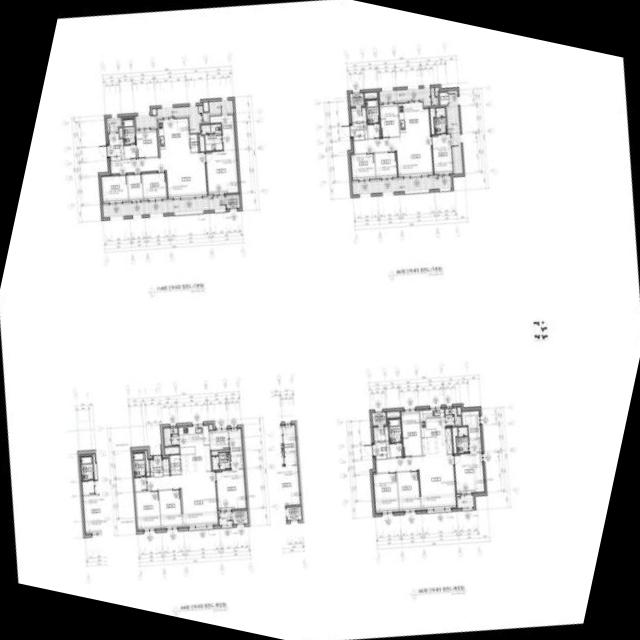background: (0, 0, 640, 640)
space_balconi: (102, 195, 225, 217), (134, 105, 208, 133), (352, 175, 451, 194), (446, 89, 462, 173), (379, 87, 438, 105), (208, 99, 233, 113), (444, 407, 461, 425), (163, 427, 178, 445), (106, 116, 121, 131), (456, 494, 473, 507), (218, 511, 232, 524)
space_bedroom: (215, 454, 245, 509), (453, 438, 483, 492), (205, 150, 238, 193), (373, 472, 398, 512), (135, 490, 160, 529), (396, 470, 420, 510), (158, 489, 182, 527), (431, 133, 452, 173), (100, 174, 127, 202), (141, 172, 166, 199), (350, 153, 375, 179), (135, 129, 157, 157), (374, 151, 396, 177)
space_dressroom: (208, 114, 235, 150), (461, 410, 480, 438), (228, 428, 241, 454)
space_front: (108, 132, 123, 160), (371, 440, 389, 459), (352, 121, 367, 140), (149, 458, 162, 476)
space_kitchen: (419, 408, 452, 455), (178, 424, 210, 472), (157, 117, 190, 156), (398, 101, 429, 136)
space_living_room: (375, 454, 455, 508), (110, 152, 206, 197), (146, 471, 217, 526), (353, 135, 432, 176)
space_other: (401, 410, 421, 455), (379, 103, 399, 136), (127, 173, 142, 200), (209, 429, 228, 449), (373, 426, 388, 440), (351, 107, 366, 121), (169, 454, 180, 473), (123, 144, 136, 158), (389, 443, 402, 456), (134, 477, 146, 490), (367, 124, 379, 137), (189, 133, 197, 151), (452, 426, 457, 452), (429, 107, 434, 133), (144, 450, 149, 475), (164, 446, 179, 454), (162, 458, 169, 474), (439, 91, 447, 104), (211, 449, 229, 454), (199, 133, 204, 150), (386, 411, 399, 417), (364, 91, 376, 97), (203, 101, 208, 111), (118, 127, 122, 137), (434, 86, 438, 95), (151, 108, 155, 114), (457, 407, 460, 414), (208, 424, 212, 429)
space_outdoor_room: (232, 509, 247, 523), (225, 194, 239, 208), (371, 411, 385, 424), (349, 92, 363, 105)
space_toilet: (200, 123, 222, 150), (132, 451, 145, 476), (365, 98, 378, 123), (122, 118, 135, 143), (211, 452, 230, 469), (434, 107, 446, 133), (456, 426, 468, 452), (388, 418, 401, 442)
